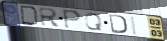D: (19, 4, 41, 27), (108, 13, 129, 35)
I: (129, 15, 139, 36)
P: (61, 8, 83, 31)
Q: (84, 13, 104, 32)
R: (38, 7, 62, 28)
